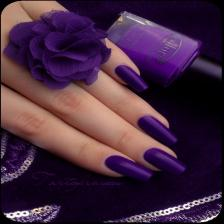purple: (4, 10, 111, 89), (108, 11, 202, 87), (144, 148, 187, 176), (138, 116, 178, 146), (105, 156, 153, 181), (115, 65, 148, 92)
